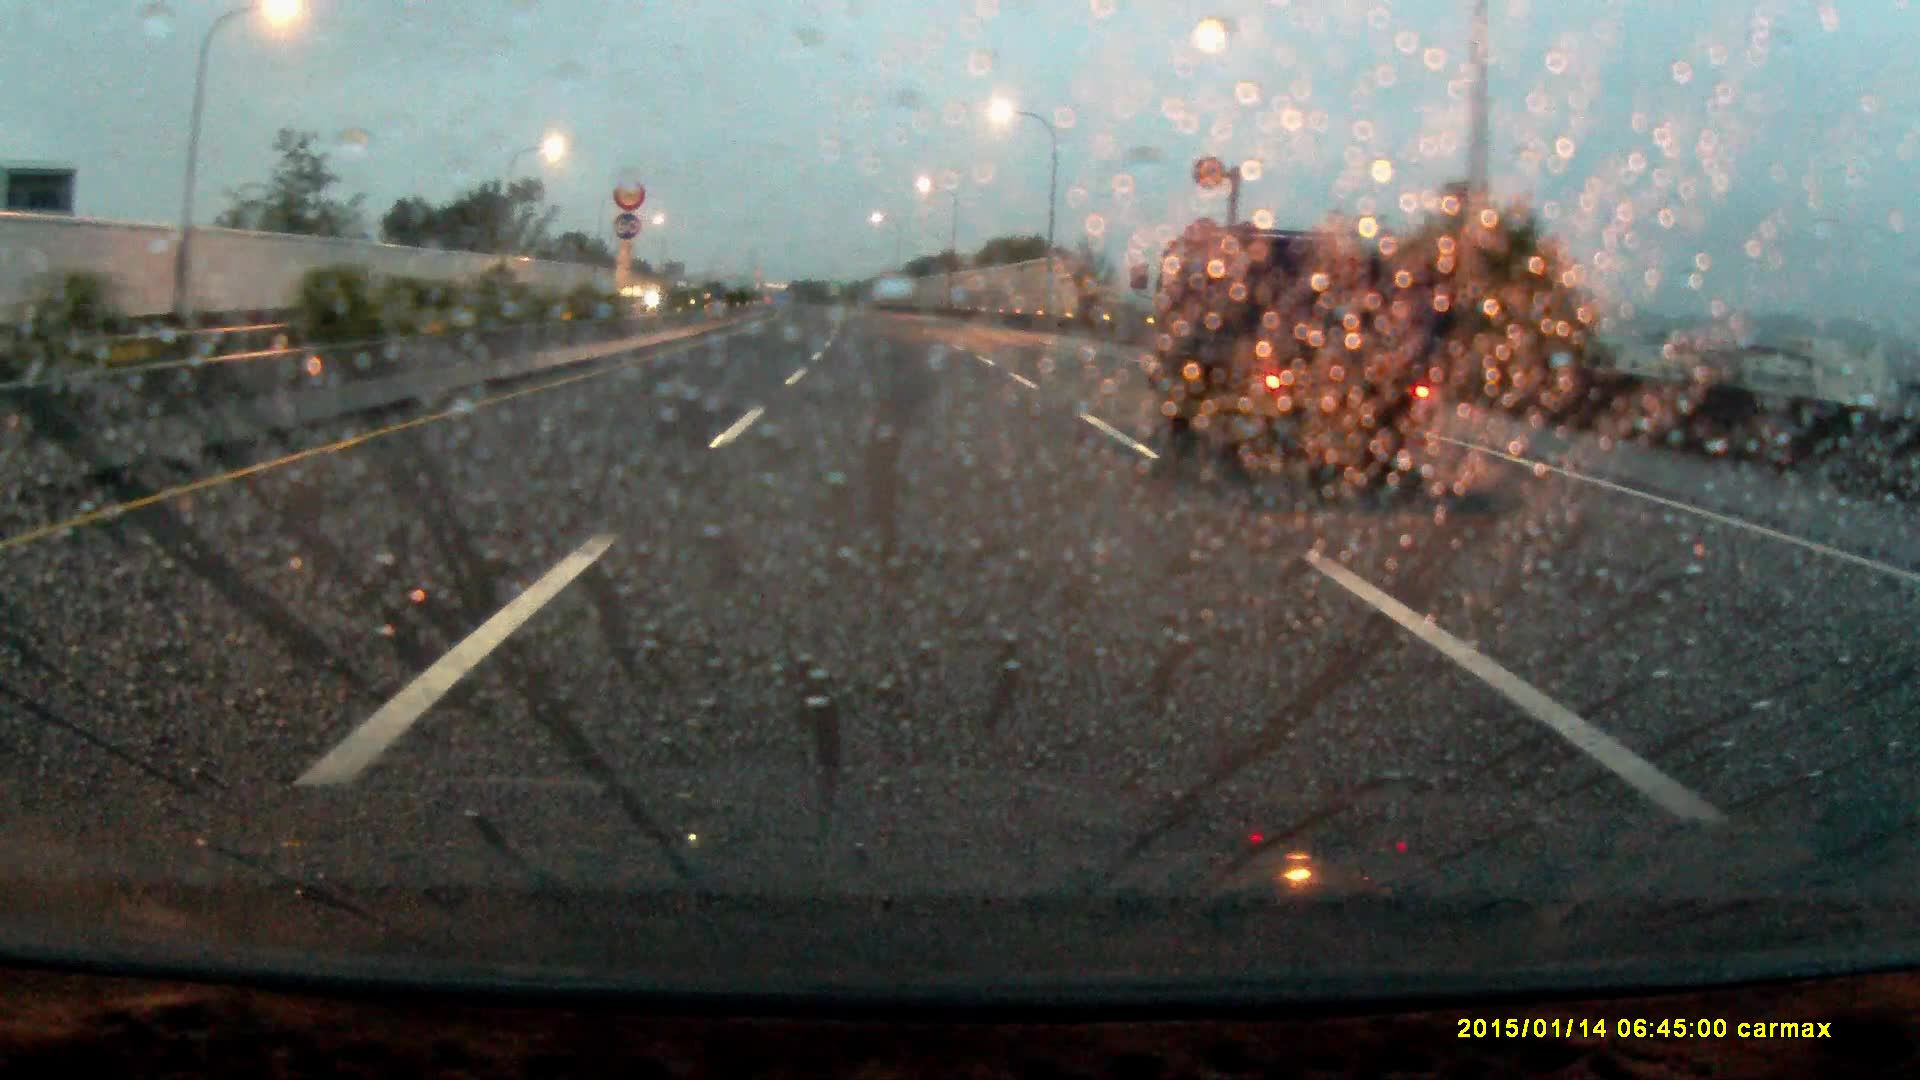vehicle: (1180, 208, 1468, 502)
